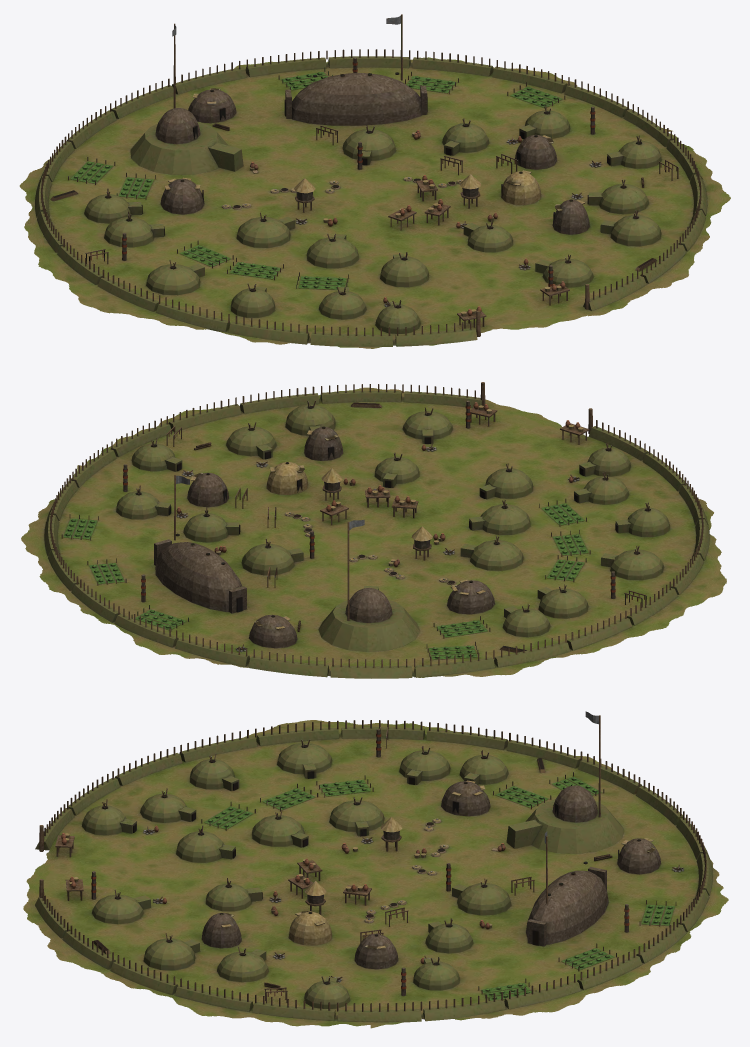
Rendered from stone-town-big-b-americas.glb.
The picture shows the model from 3 angles, top to bottom: view 1: azimuth 30°, elevation 25°; view 2: azimuth 150°, elevation 25°; view 3: azimuth 270°, elevation 25°; orthographic projection. The views are drawn at different scales.
Parts seen in each view (by area): view 1: LOD0; view 2: LOD0; view 3: LOD0.
Part boxes in pixels (x1=…): LOD0: x1=19, y1=14, x2=730, y2=348; LOD0: x1=21, y1=382, x2=726, y2=678; LOD0: x1=23, y1=711, x2=728, y2=1028.
Size of what is drawn, in the model's own units: 7.99 by 1.45 by 7.75.
Materials: 3 (3 with a texture image).
